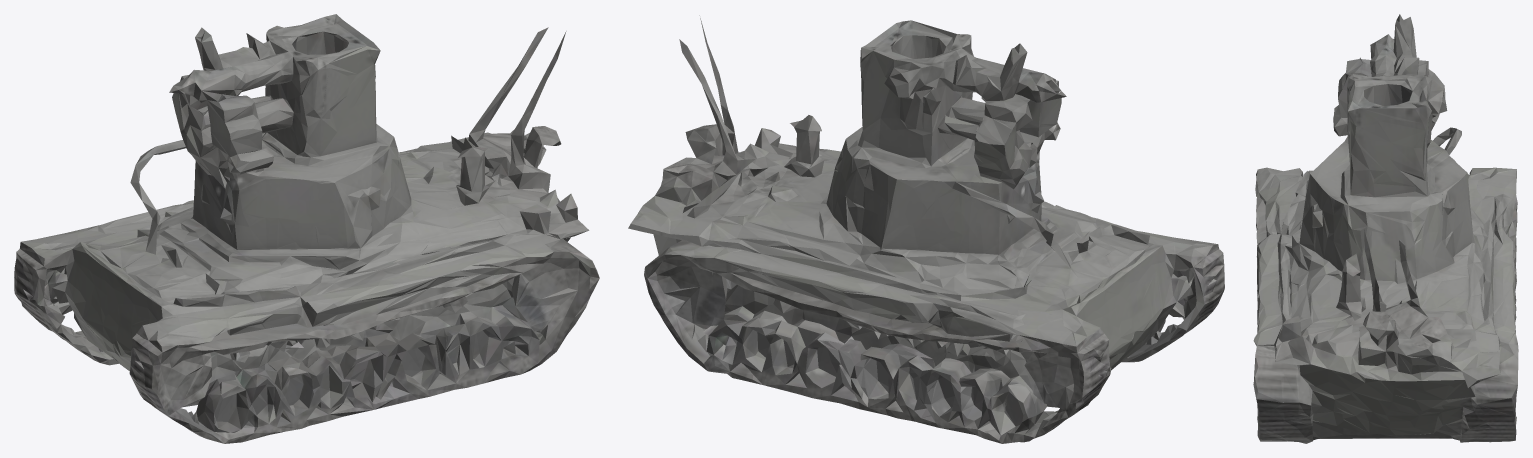
The model's file is veh_tos1a.glb.
3 renders of one model, left to right at view 1: azimuth 30°, elevation 25°; view 2: azimuth 150°, elevation 25°; view 3: azimuth 270°, elevation 25°, orthographic. The views are drawn at different scales.
Visible parts, largest first — view 1: veh_tos1a_tex; view 2: veh_tos1a_tex; view 3: veh_tos1a_tex.
Boxes of the visible parts, <box> form: veh_tos1a_tex: <box>14,14,599,443</box>; veh_tos1a_tex: <box>628,15,1224,443</box>; veh_tos1a_tex: <box>1253,14,1518,443</box>.
Size of the model in its own units: 7.2 by 4.98 by 3.78.
Materials: 1 (1 with a texture image).
